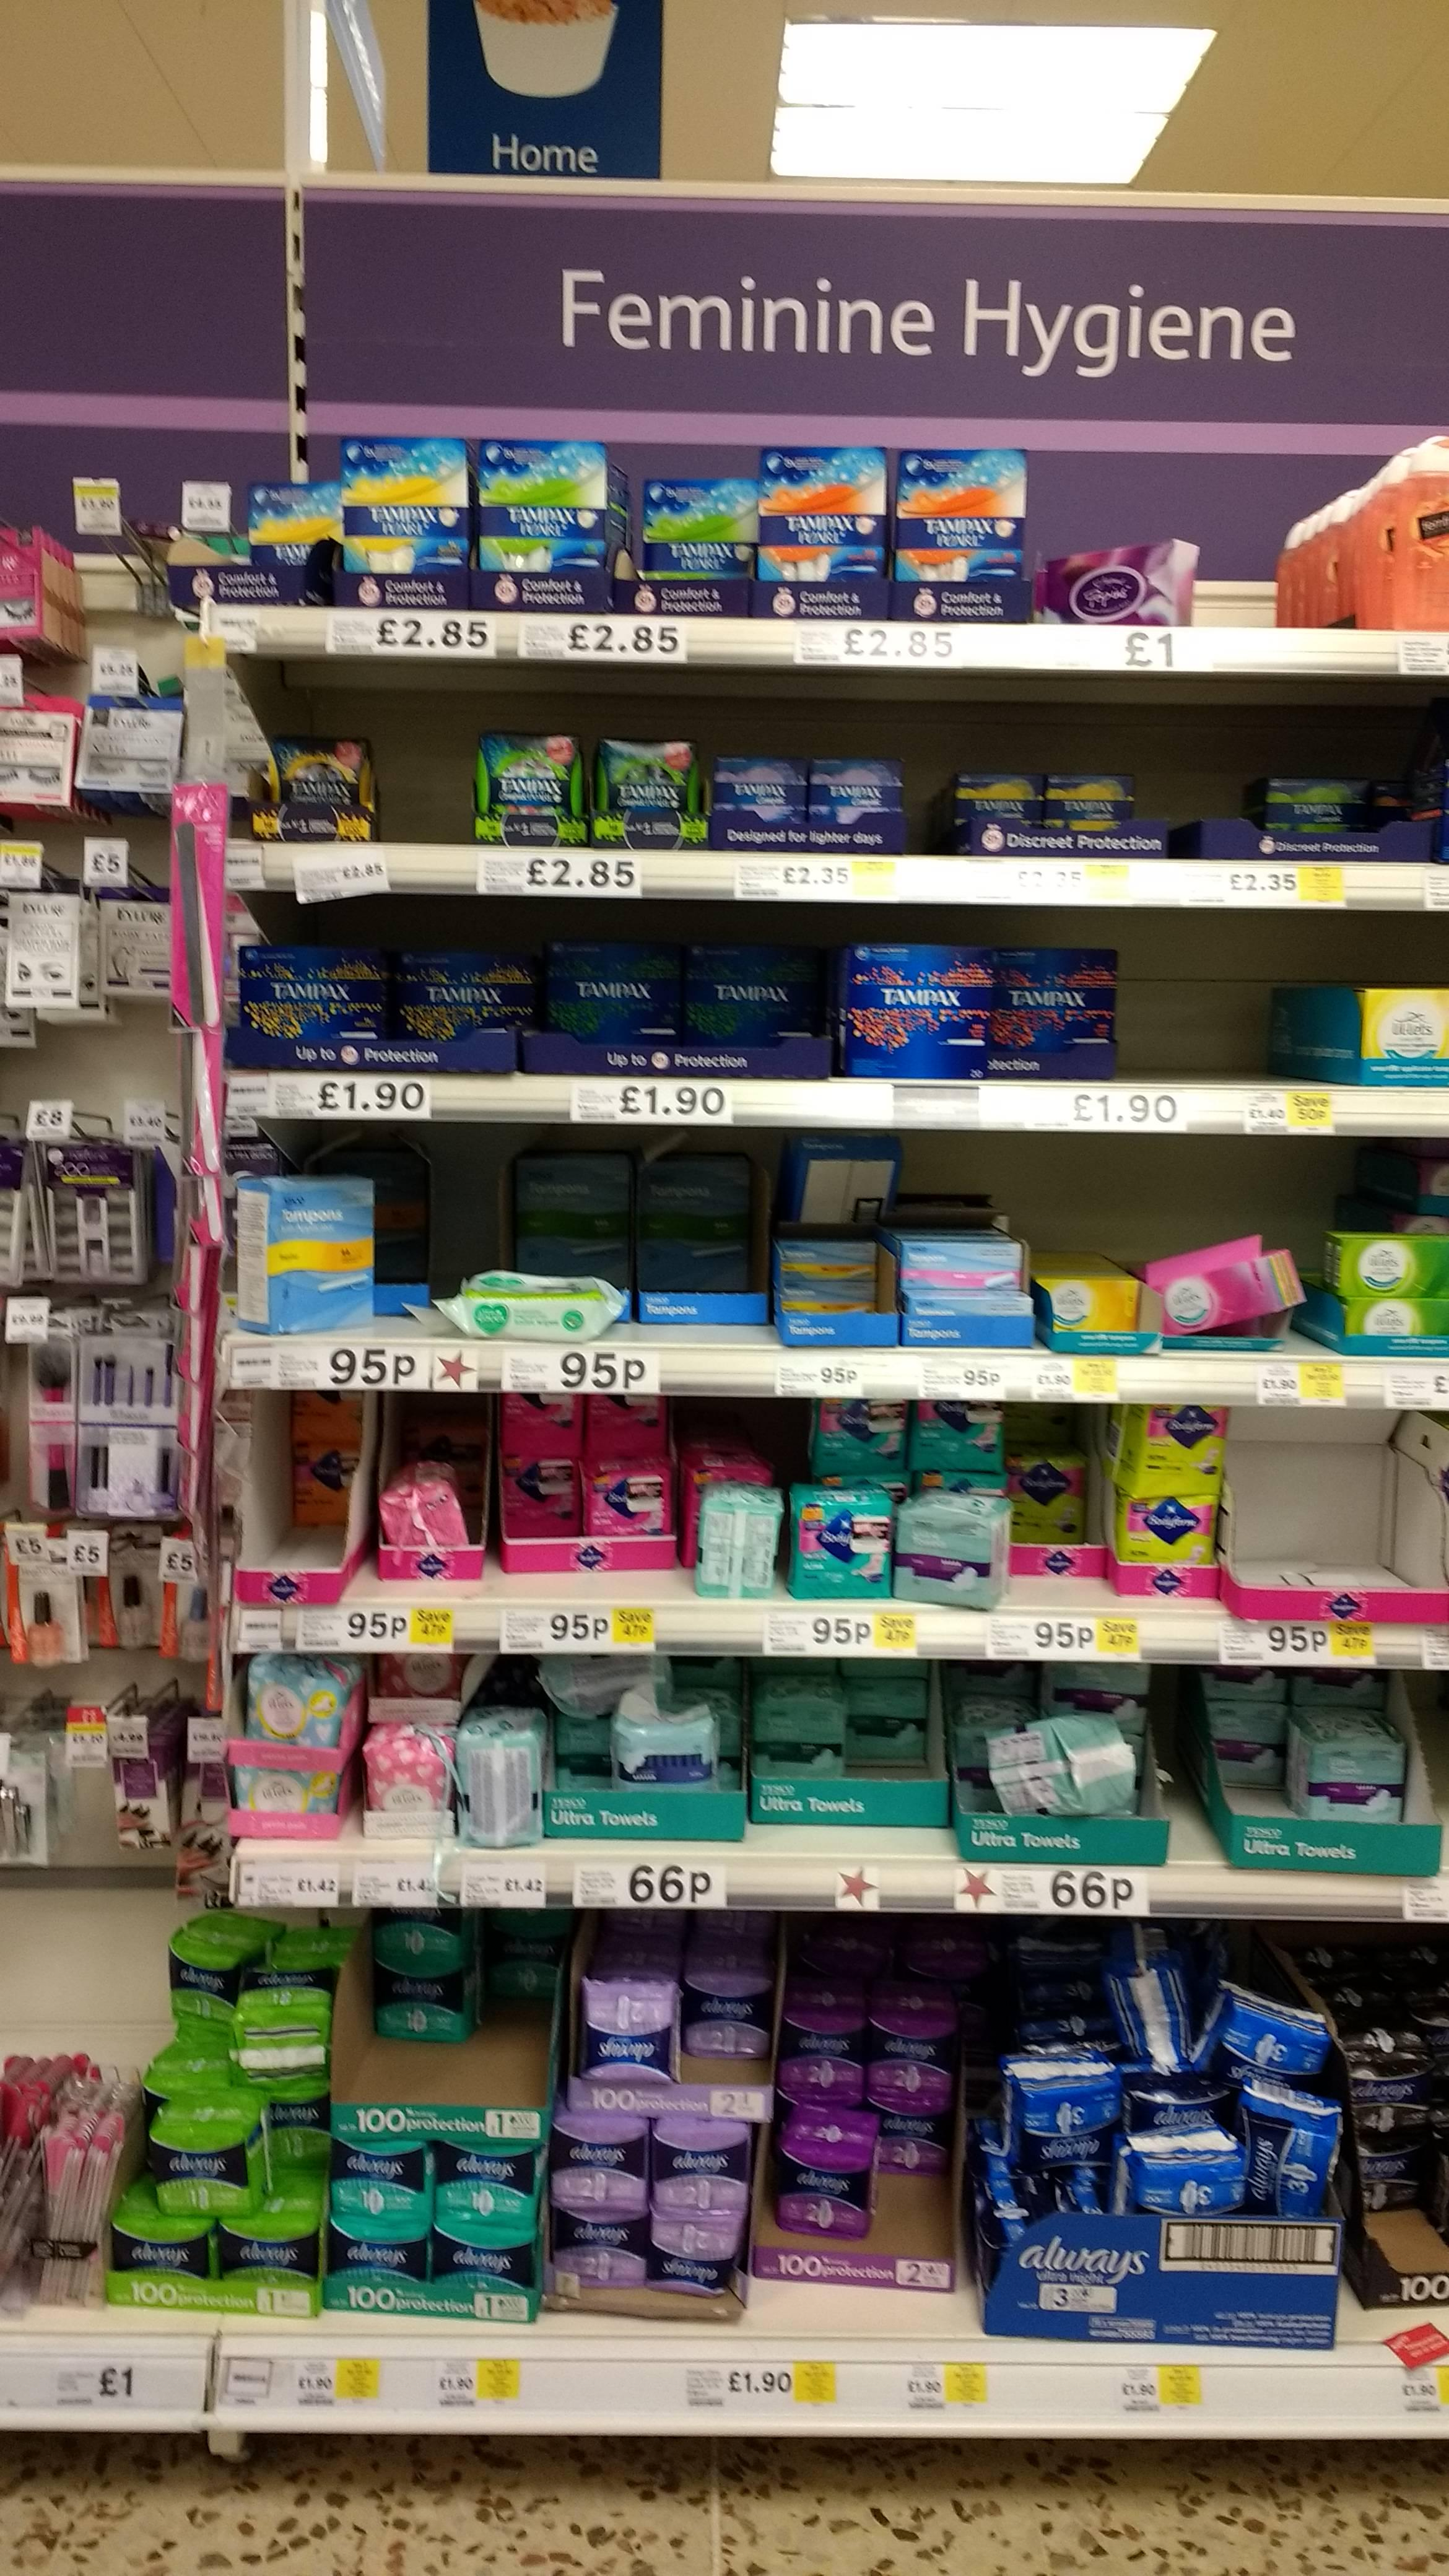empty: (1230, 1460, 1410, 1589), (1123, 955, 1304, 1083), (623, 1235, 764, 1345), (377, 718, 481, 851), (1196, 495, 1299, 630), (1003, 1497, 1111, 1608), (345, 1987, 439, 2102), (444, 1990, 538, 2104)
